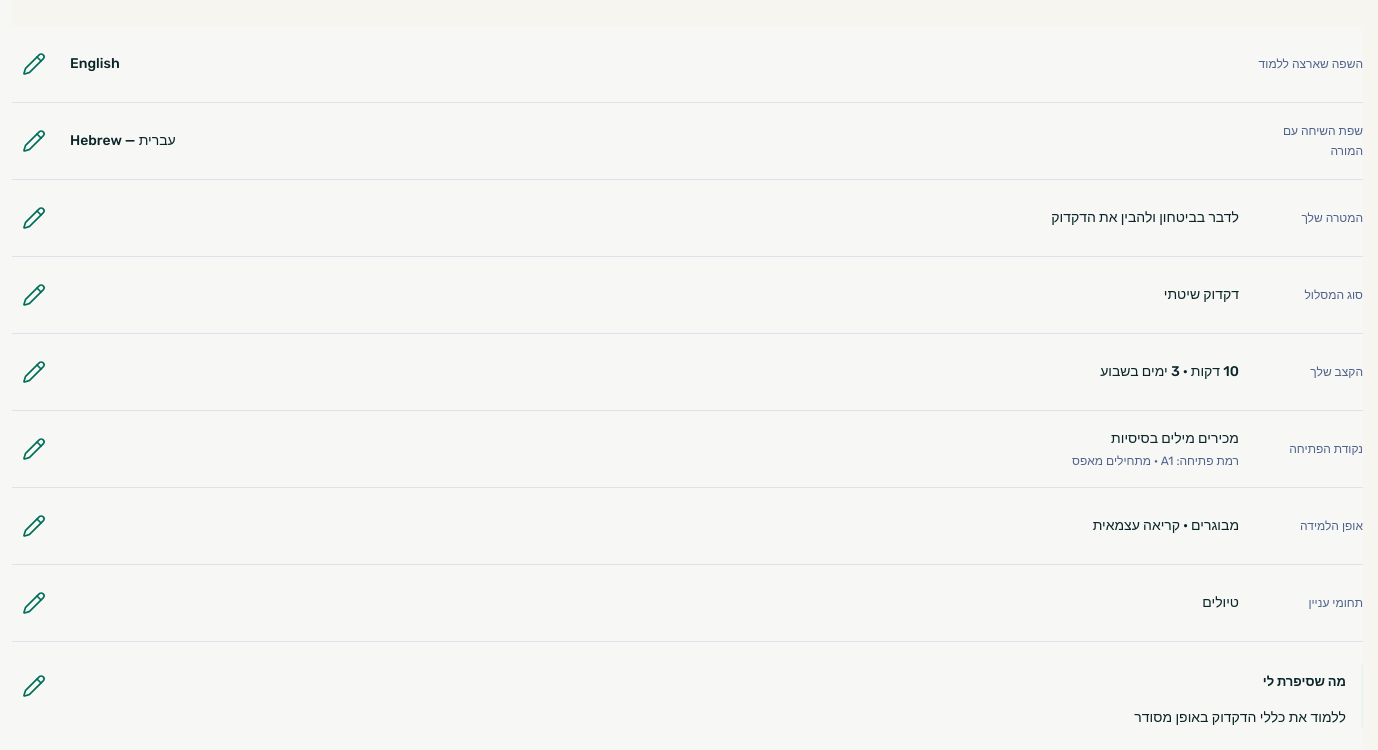
Test: inline interview preference review › saves השפה שארצה ללמוד without replacing other preferences
Click the button named "עריכת השפה שארצה ללמוד": (34, 64) [12,42,56,86]
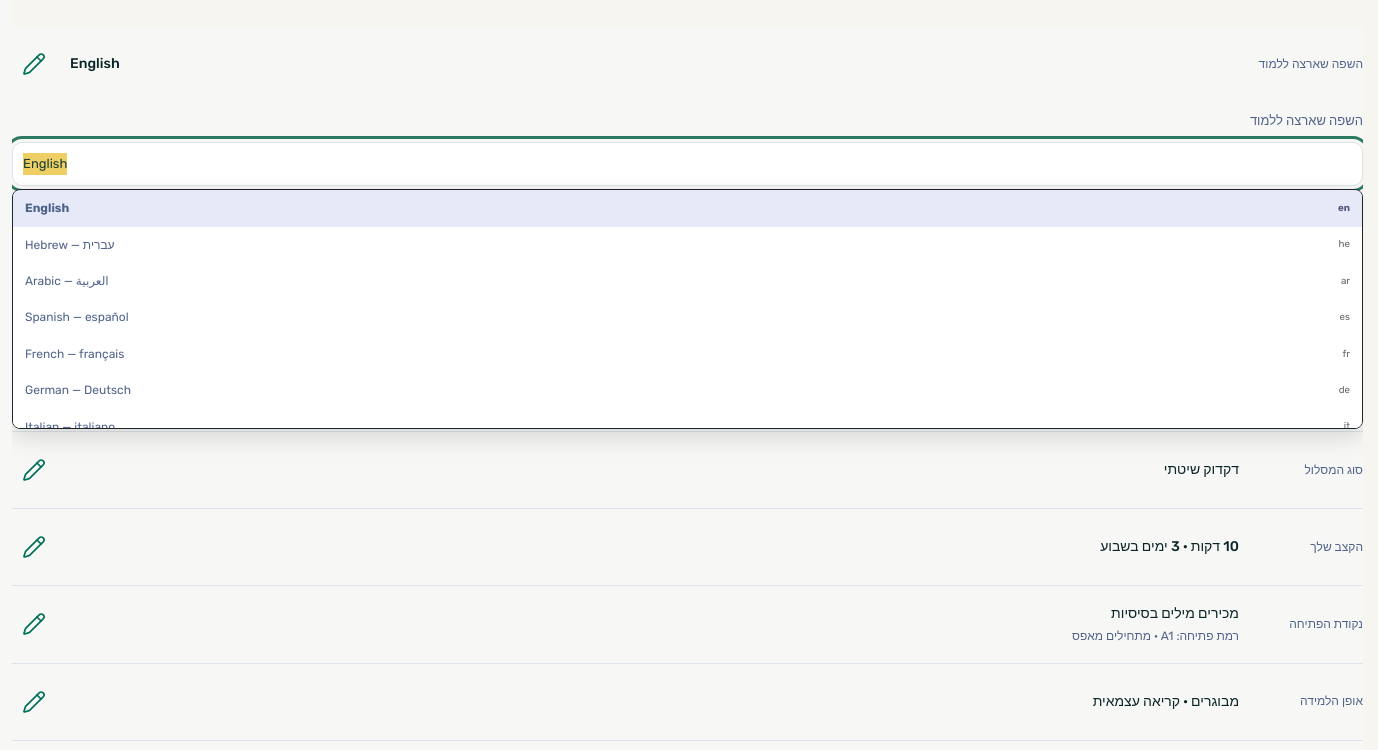
Replace the text in the dropdown with "Deutsch": (688, 164) [12,142,1363,186]
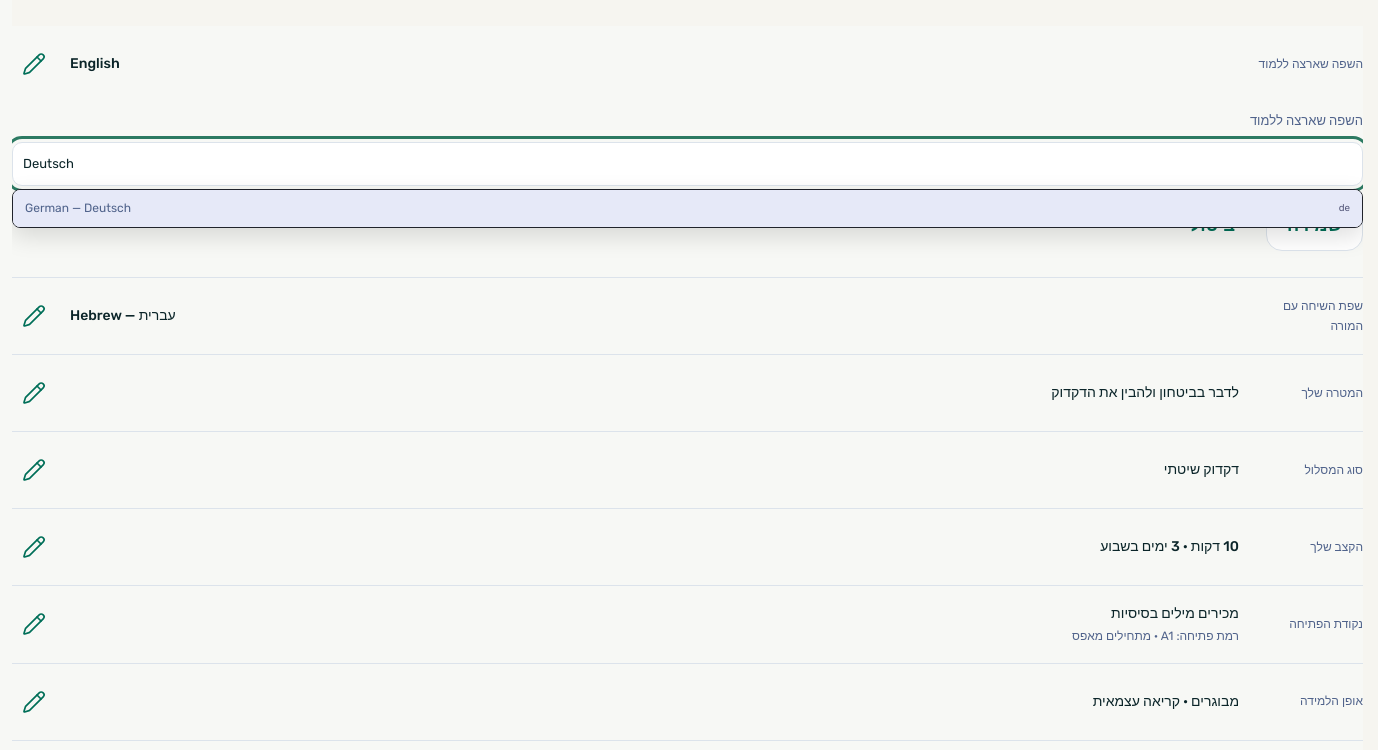
Press Enter
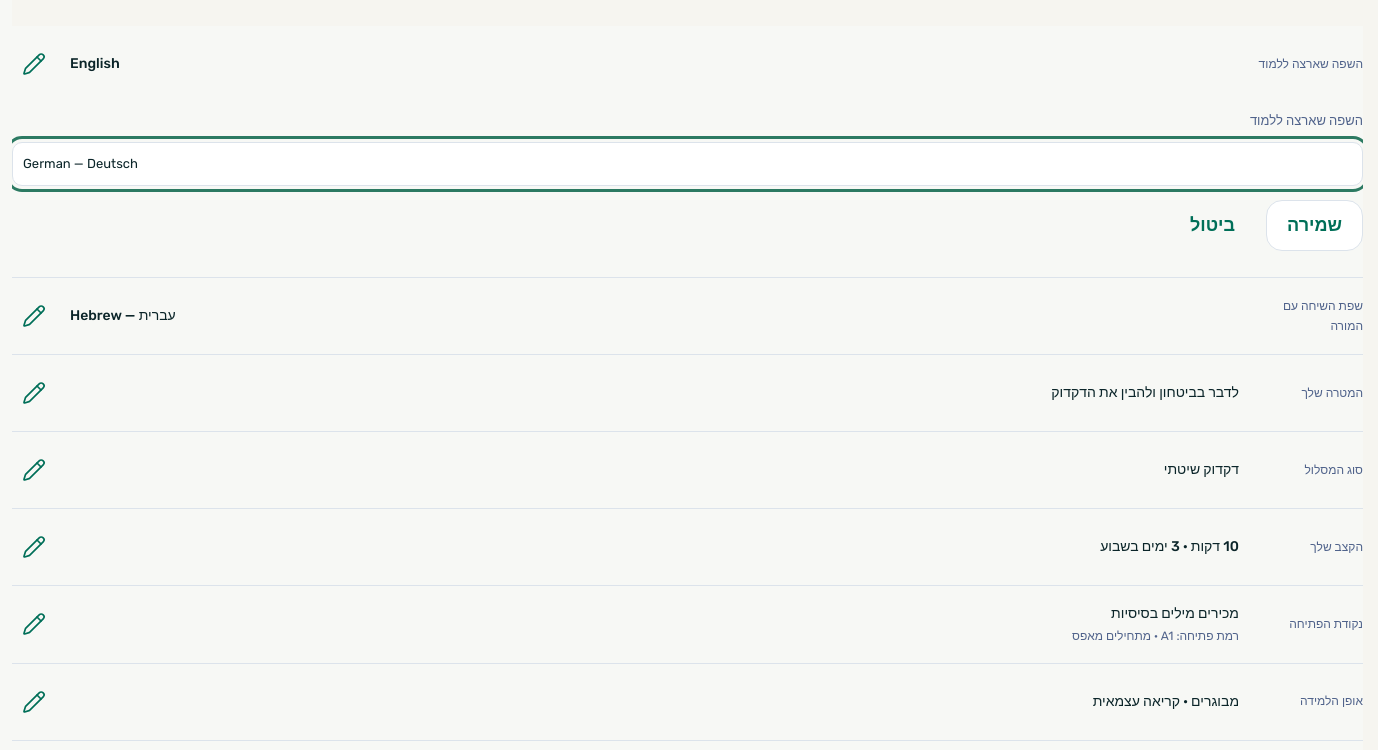
Click the button "שמירה": (1314, 226) [1266,200,1363,251]
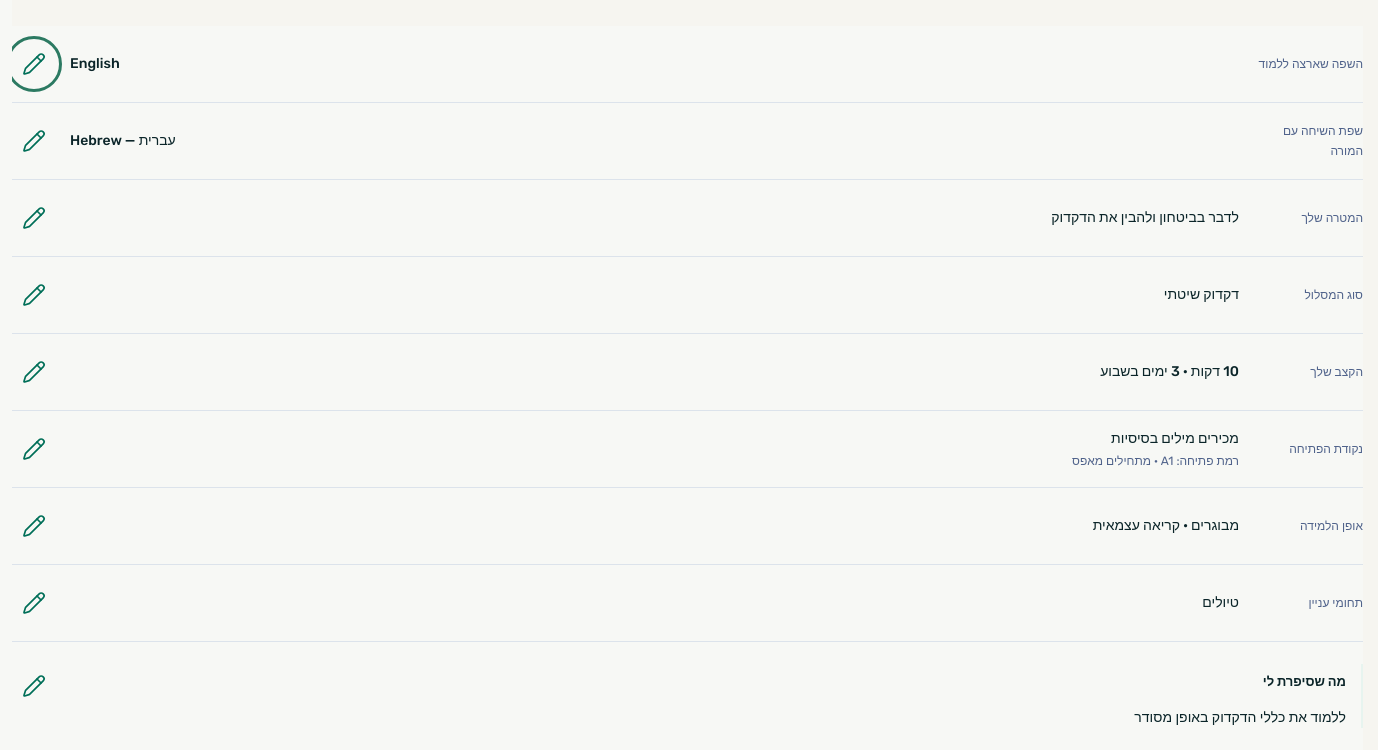
Expected: the form is gone
